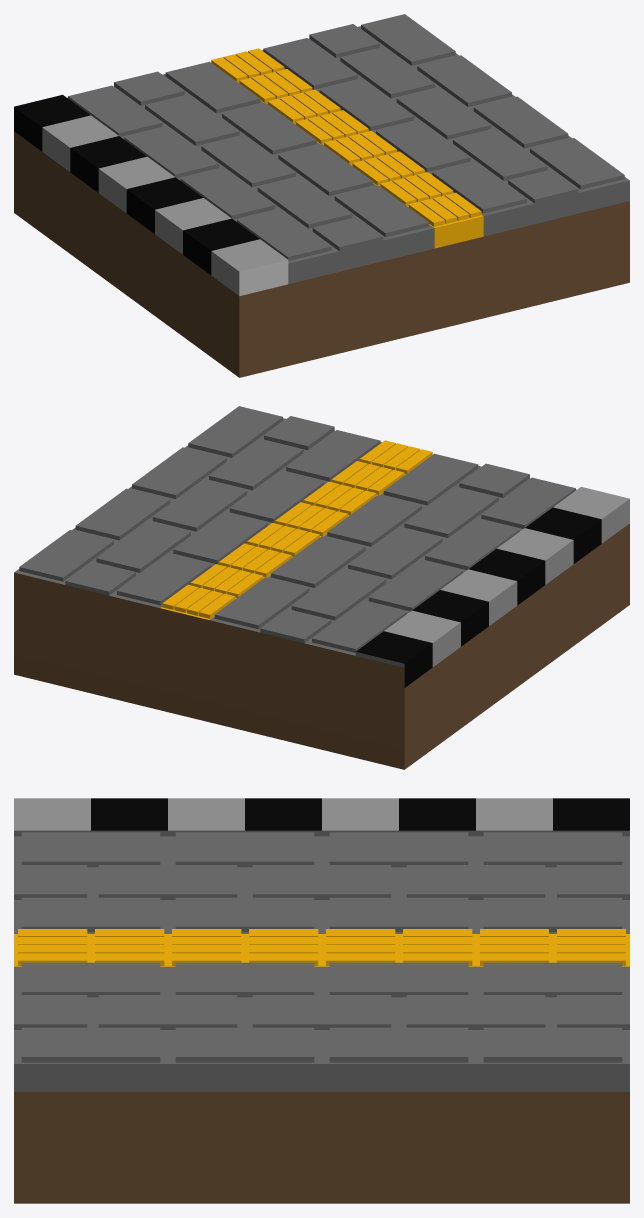
File: trotoar_main.fbx
3 renders of one model, top to bottom at view 1: azimuth 30°, elevation 25°; view 2: azimuth 150°, elevation 25°; view 3: azimuth 270°, elevation 25°, orthographic. The views are drawn at different scales.
Visible parts, largest first — view 1: Cube.012; view 2: Cube.012; view 3: Cube.012.
Boxes of the visible parts, x1,y1,x2,y2 form: Cube.012: (14, 14, 629, 377); Cube.012: (14, 406, 629, 769); Cube.012: (14, 798, 629, 1203).
Size of the model in its own units: 1000 by 260 by 1000.
